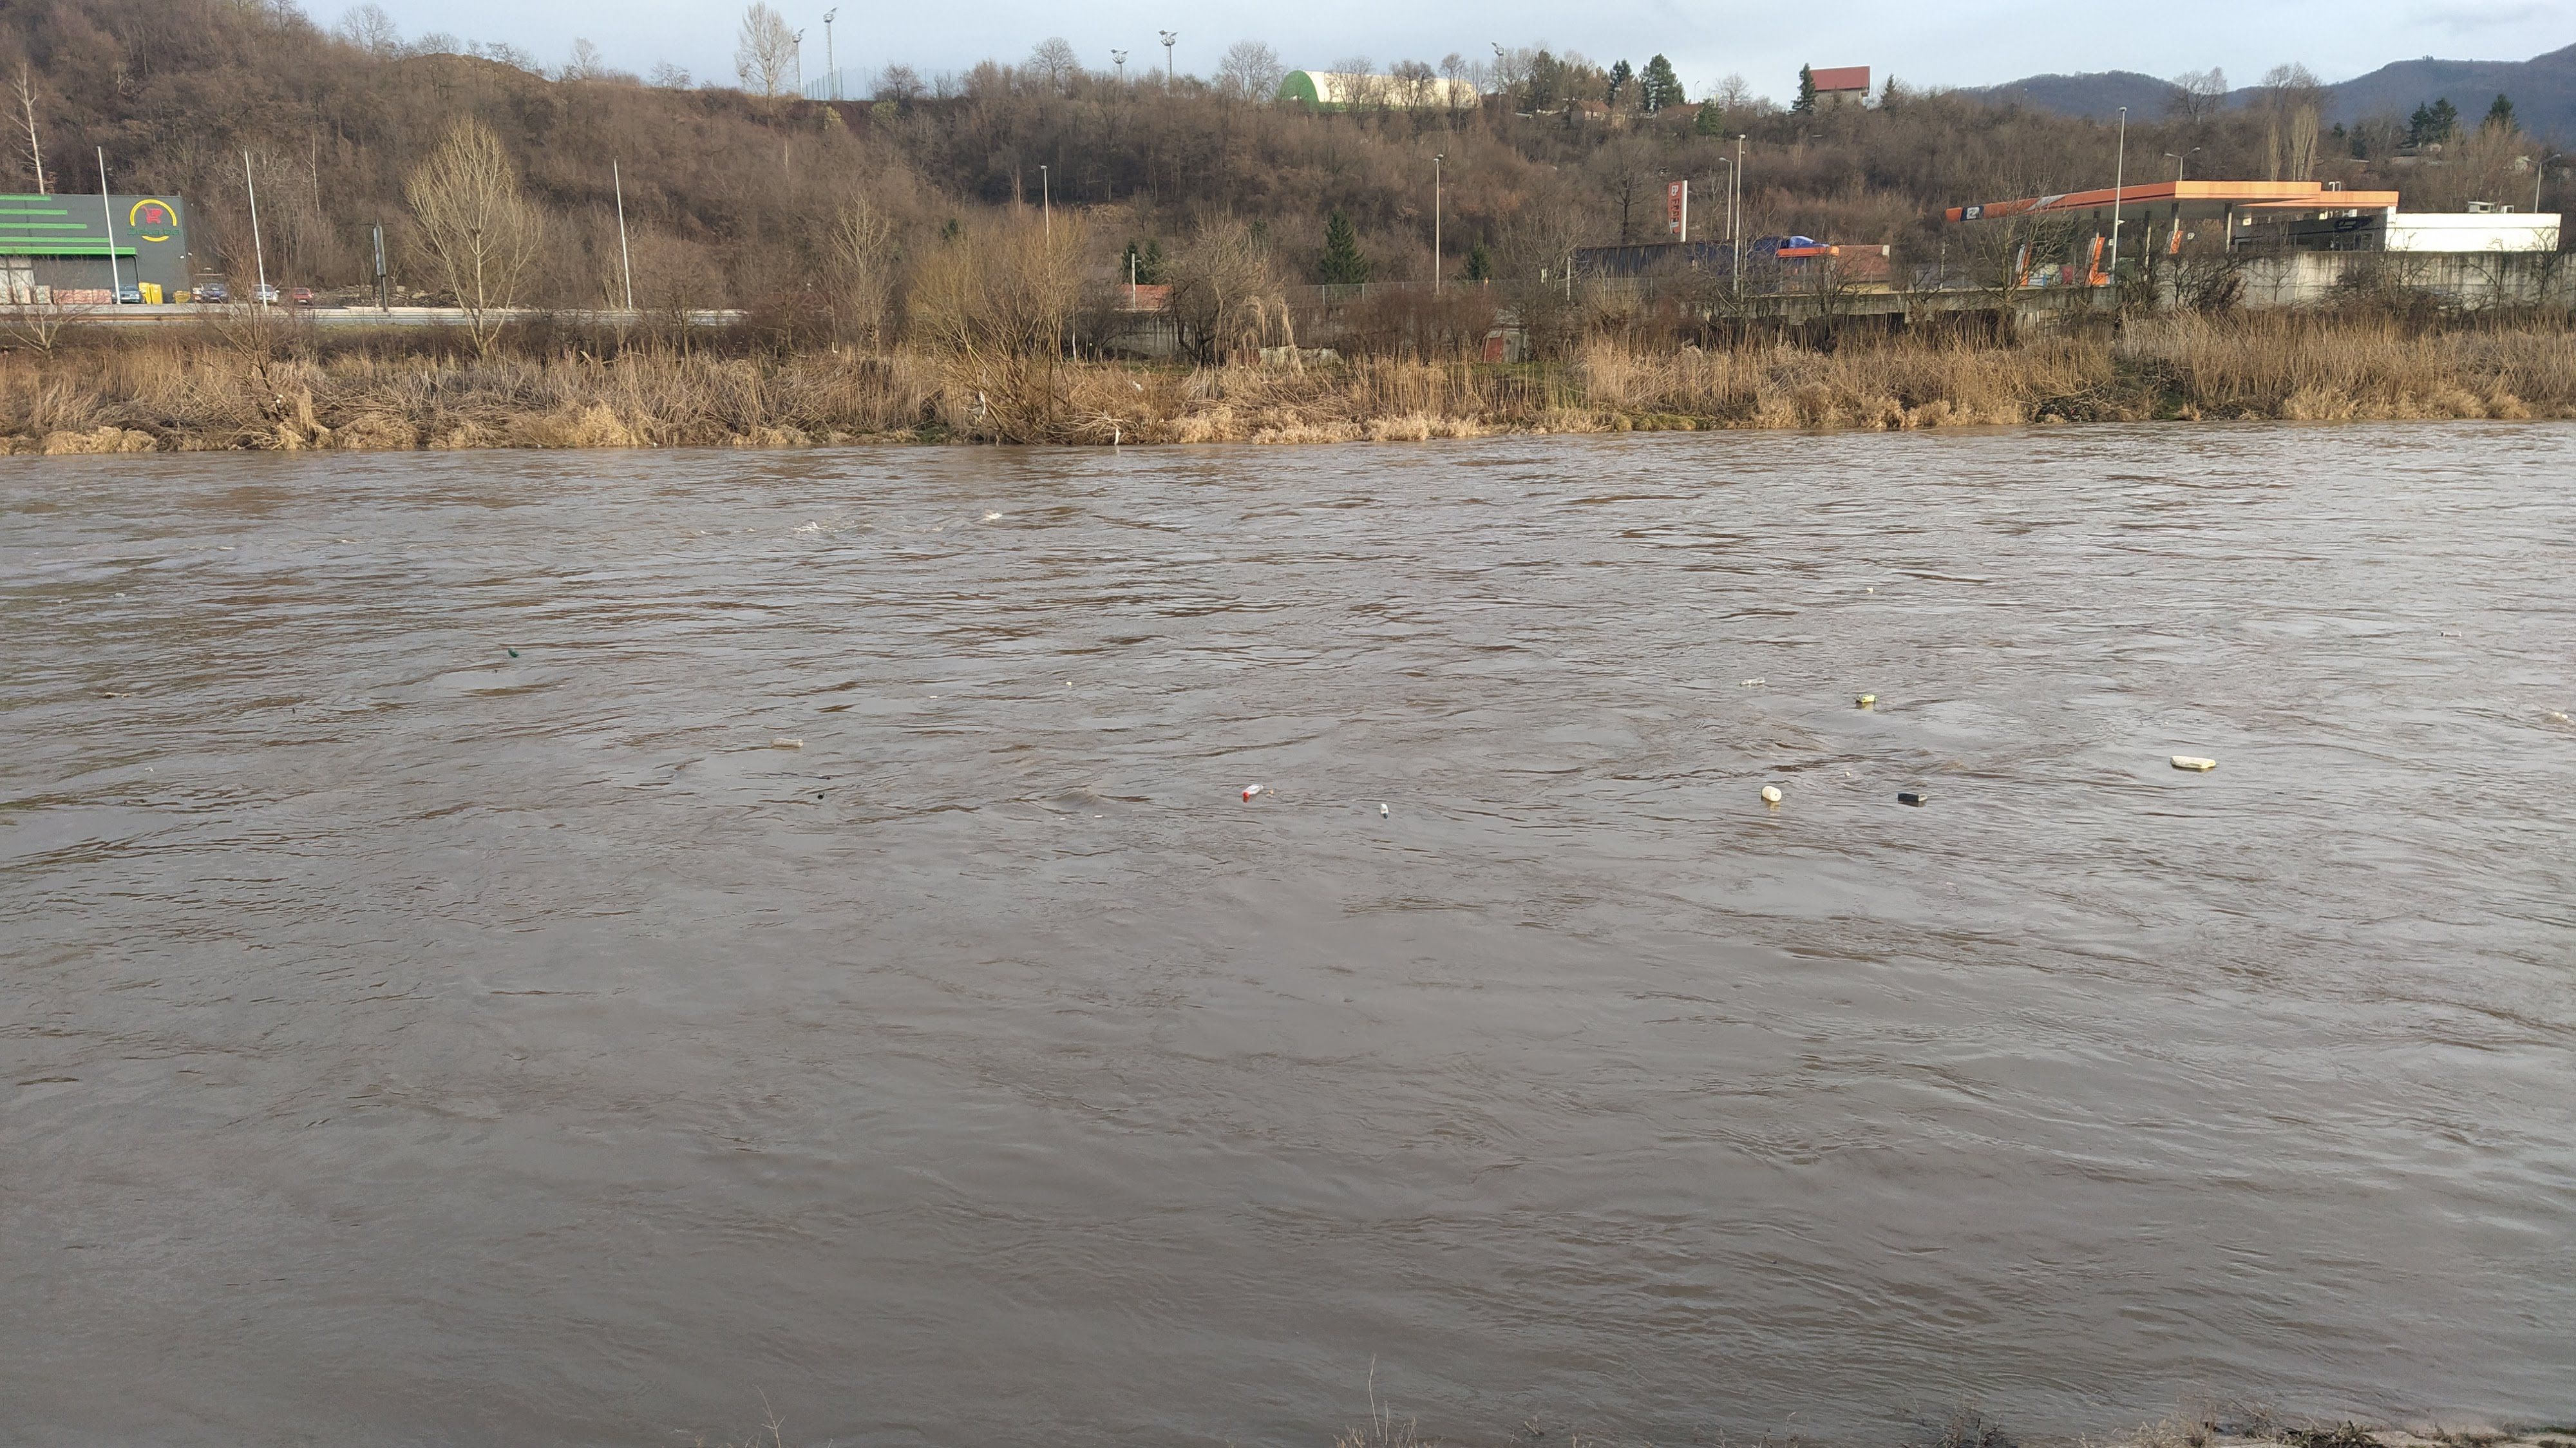Plastic Bottle: (1760, 784, 1782, 802), (770, 736, 803, 747), (1242, 782, 1263, 798), (1898, 791, 1927, 802), (1739, 676, 1766, 685), (1856, 694, 1875, 703), (1378, 804, 1389, 818), (2442, 632, 2461, 637), (510, 648, 518, 659), (113, 591, 126, 597)
